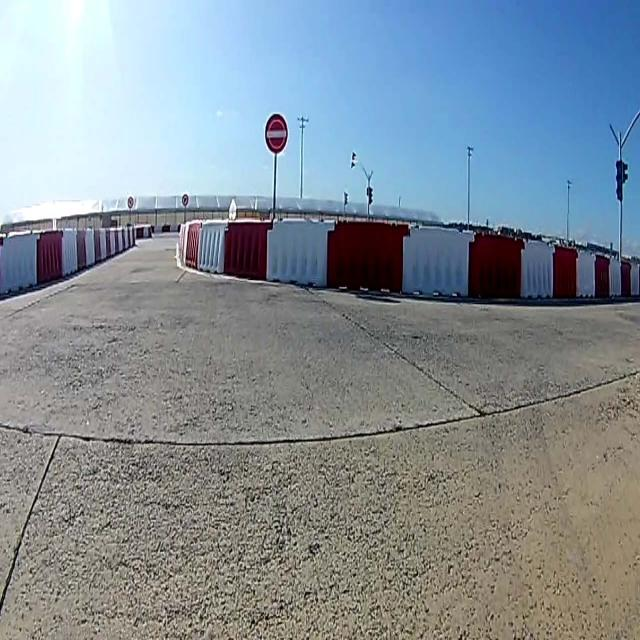girisyok: (266, 116, 287, 151)
